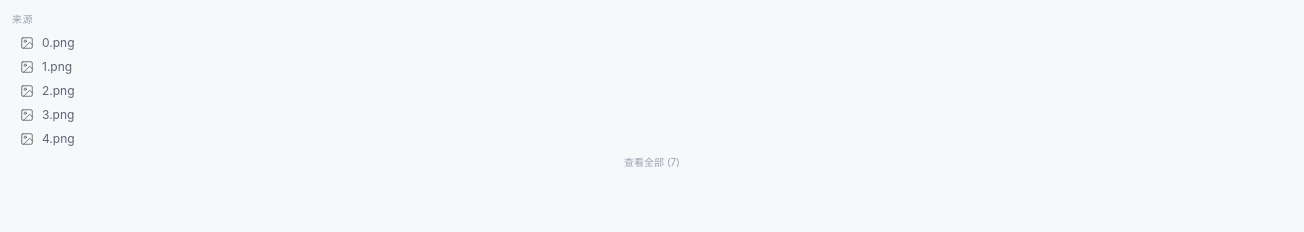
Scenario: SummaryContent › 来源含附件与工作目录;>5 行时可展开
Check: the number of buttons with test id "summary-source" is 5, box [12,31,1292,55]; [12,55,1292,79]; [12,79,1292,103]; [12,103,1292,127]; [12,127,1292,151]
Click the button with test id "summary-sources-toggle": (652, 162) [12,151,1292,174]
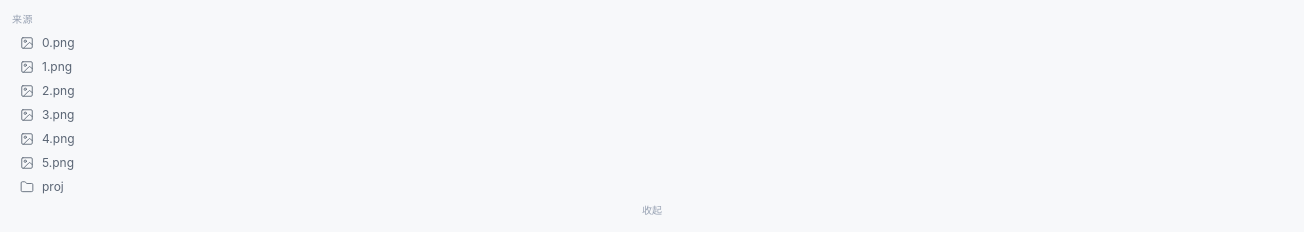
Check: the number of buttons with test id "summary-source" is 7
